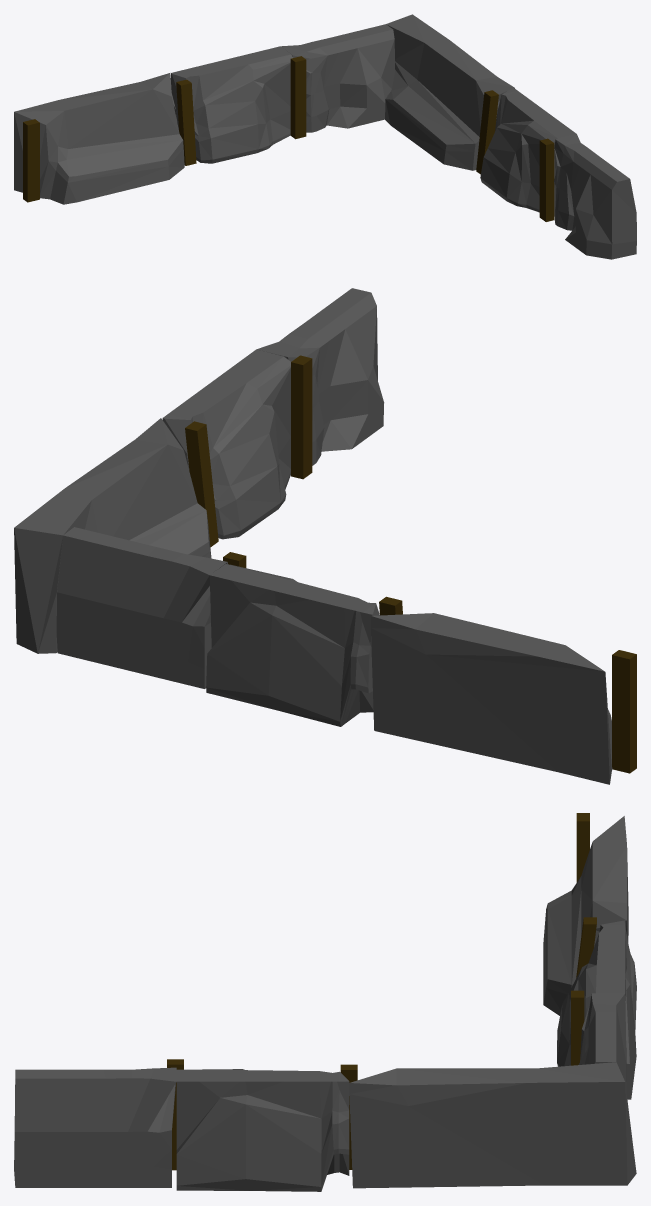
The model's file is Stone_wall_corner.fbx.
The picture shows the model from 3 angles, top to bottom: view 1: azimuth 30°, elevation 25°; view 2: azimuth 150°, elevation 25°; view 3: azimuth 270°, elevation 25°; orthographic projection. The views are drawn at different scales.
Parts seen in each view (by area): view 1: prop_stone_wall1_set_entrance_cave_stones_middleground_geo_7; view 2: prop_stone_wall1_set_entrance_cave_stones_middleground_geo_7; view 3: prop_stone_wall1_set_entrance_cave_stones_middleground_geo_7.
Boxes of the visible parts, bbox=[...] form: prop_stone_wall1_set_entrance_cave_stones_middleground_geo_7: bbox=[14, 14, 636, 259]; prop_stone_wall1_set_entrance_cave_stones_middleground_geo_7: bbox=[14, 288, 636, 784]; prop_stone_wall1_set_entrance_cave_stones_middleground_geo_7: bbox=[14, 813, 636, 1191].
Bounding box in the file's own units: 2184 × 395 × 2098.
